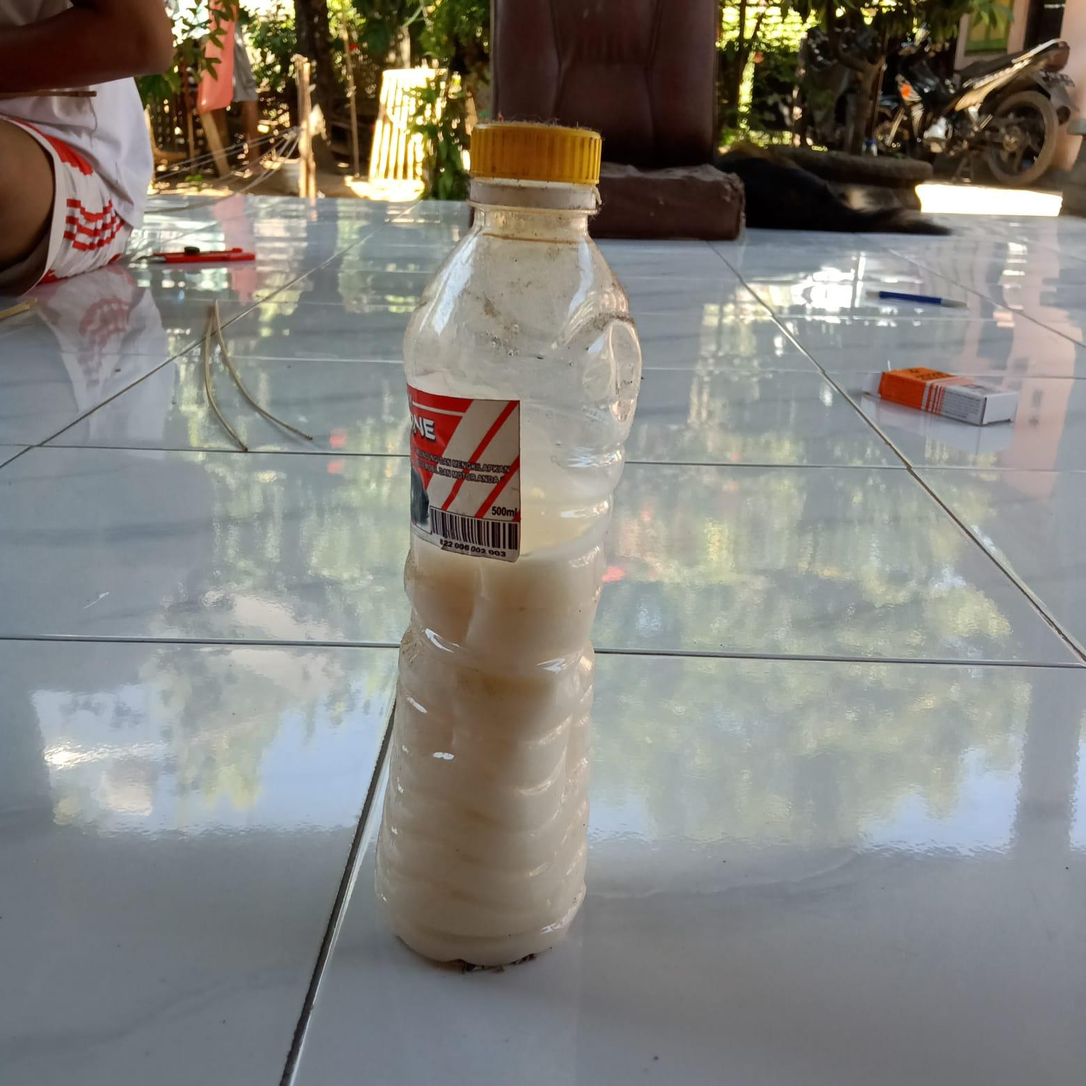Plastik: (375, 120, 640, 974)
